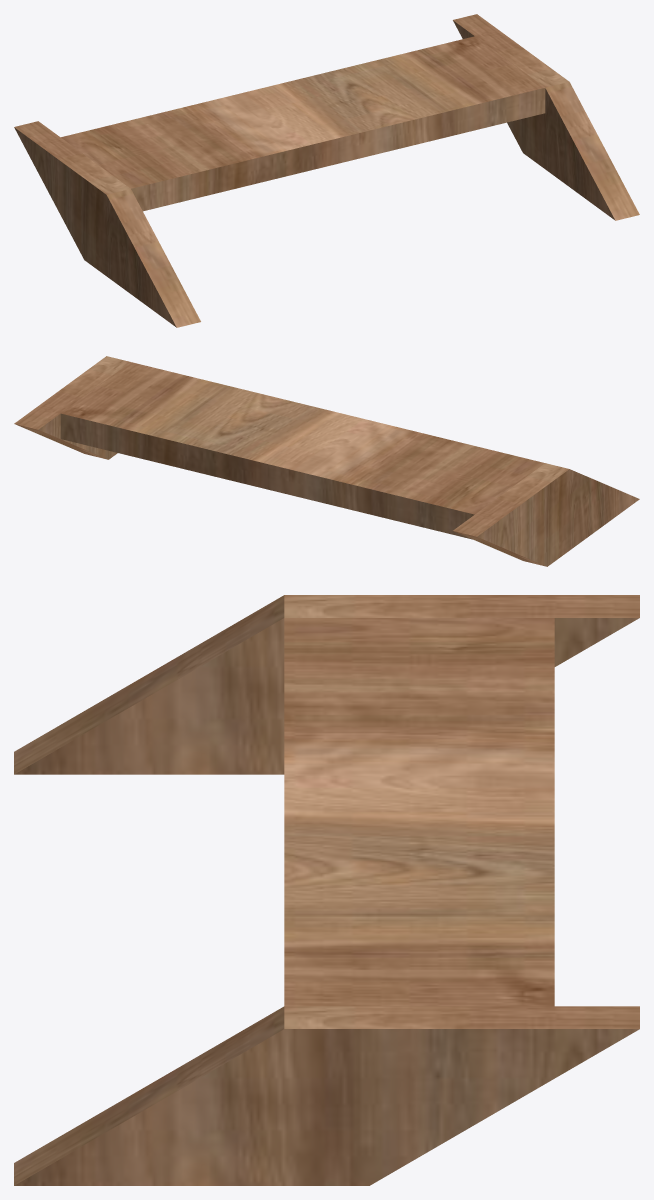
Rendered from stairs_wood_ss.fbx.
The picture shows the model from 3 angles, top to bottom: view 1: azimuth 30°, elevation 25°; view 2: azimuth 150°, elevation 25°; view 3: azimuth 270°, elevation 25°; orthographic projection. The views are drawn at different scales.
Parts seen in each view (by area): view 1: wood; view 2: wood; view 3: wood.
Boxes of the visible parts, x1,y1,x2,y2 form: wood: [14, 14, 639, 327]; wood: [14, 356, 639, 566]; wood: [14, 595, 639, 1185].
Bounding box in the file's own units: 3.12 × 1.9 × 0.5249.
